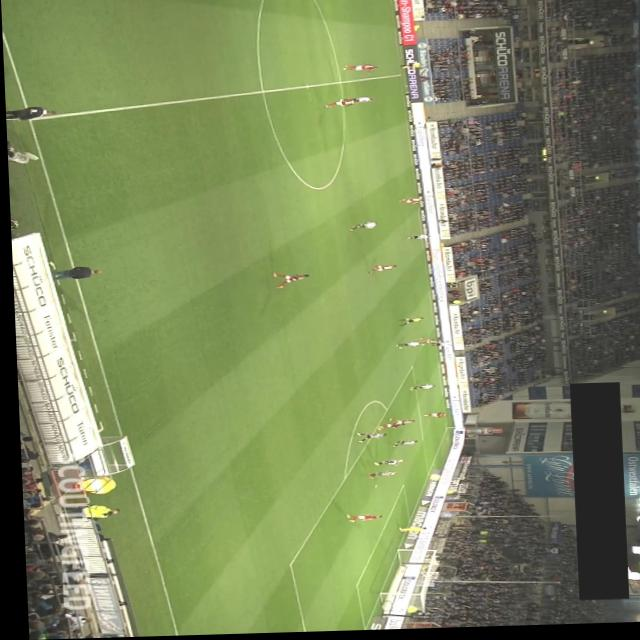goalkeeper: (393, 529, 421, 535)
player: (269, 273, 307, 291), (342, 65, 377, 78), (351, 434, 383, 446), (346, 223, 376, 233), (322, 101, 355, 110), (341, 516, 378, 524), (364, 267, 394, 276), (414, 339, 438, 348), (404, 386, 432, 393), (368, 462, 399, 468), (363, 474, 393, 480), (395, 200, 420, 207), (390, 345, 419, 351), (343, 99, 372, 105), (386, 443, 413, 449), (385, 421, 410, 427), (419, 415, 443, 421), (372, 426, 394, 432), (425, 343, 446, 349), (403, 237, 428, 242)
referee: (394, 319, 421, 329), (398, 65, 423, 72)
